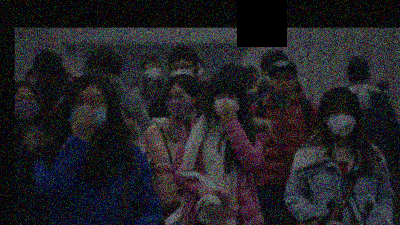with_mask: (65, 91, 108, 133), (323, 104, 358, 139), (209, 91, 242, 119), (165, 91, 194, 116), (15, 93, 40, 121), (33, 73, 58, 100), (168, 61, 196, 79), (143, 64, 162, 82)
without_mask: (270, 72, 297, 96), (90, 65, 118, 88)
